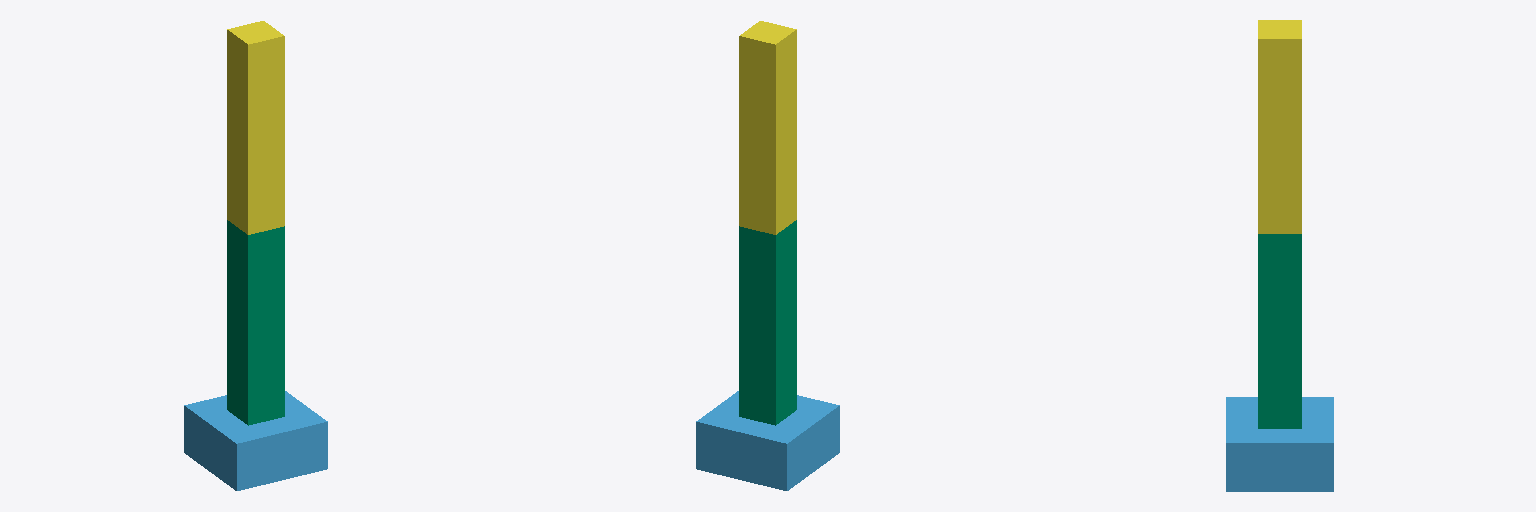
The robot description file, URDF, robot "arm_world":
<?xml version="1.0"?>
<robot name="arm_world">
  <link name="world"/>
  <joint name="world_joint" type="fixed"><parent link="world"/><child link="base_link"/><origin xyz="0 0 0"/></joint>
  <link name="base_link"><inertial><origin xyz="0 0 0"/><mass value="1.0"/><inertia ixx="0.01" ixy="0" ixz="0" iyy="0.01" iyz="0" izz="0.01"/></inertial><visual><origin xyz="0 0 0.05"/><geometry><mesh filename="../meshes/base.stl"/></geometry></visual><collision><origin xyz="0 0 0.05"/><geometry><mesh filename="../meshes/base.stl"/></geometry></collision></link>
  <link name="link1"><inertial><origin xyz="0 0 0"/><mass value="1.0"/><inertia ixx="0.01" ixy="0" ixz="0" iyy="0.01" iyz="0" izz="0.01"/></inertial><visual><origin xyz="0 0 0.2"/><geometry><mesh filename="../meshes/link.stl"/></geometry></visual><collision><origin xyz="0 0 0.2"/><geometry><mesh filename="../meshes/link.stl"/></geometry></collision></link>
  <link name="link2"><inertial><origin xyz="0 0 0"/><mass value="1.0"/><inertia ixx="0.01" ixy="0" ixz="0" iyy="0.01" iyz="0" izz="0.01"/></inertial><visual><origin xyz="0 0 0.2"/><geometry><mesh filename="../meshes/link.stl"/></geometry></visual><collision><origin xyz="0 0 0.2"/><geometry><mesh filename="../meshes/link.stl"/></geometry></collision></link>
  <link name="flange"/>
  <joint name="j1" type="revolute"><parent link="base_link"/><child link="link1"/><origin xyz="0 0 0.1"/><axis xyz="0 0 1"/><limit lower="-3.0" upper="3.0" effort="100" velocity="2"/></joint>
  <joint name="j2" type="revolute"><parent link="link1"/><child link="link2"/><origin xyz="0 0 0.4"/><axis xyz="0 1 0"/><limit lower="-3.0" upper="3.0" effort="100" velocity="2"/></joint>
  <joint name="flange_joint" type="fixed"><parent link="link2"/><child link="flange"/><origin xyz="0 0 0.4"/></joint>
</robot>

--- Facts derived from the render (not from the file) ---
Views: 3 orthographic renders of the robot side by side, from view 1: azimuth 30°, elevation 25°; view 2: azimuth 150°, elevation 25°; view 3: azimuth 270°, elevation 25°.
Robot: arm_world — 5 links, 4 joints (2 revolute, 2 fixed); root link world; default pose: every joint at zero.
Links seen in each view (by area): view 1: link2, link1, base_link; view 2: link2, link1, base_link; view 3: link2, base_link, link1.
Boxes of the visible links, bbox=[...] form: link2: bbox=[227, 21, 284, 234]; link1: bbox=[227, 220, 284, 425]; base_link: bbox=[184, 391, 327, 490]; link2: bbox=[739, 21, 796, 234]; link1: bbox=[739, 220, 796, 425]; base_link: bbox=[696, 391, 839, 490]; link2: bbox=[1258, 20, 1301, 233]; base_link: bbox=[1226, 397, 1333, 491]; link1: bbox=[1258, 234, 1301, 428].
Size in the robot's own frame: 0.2 by 0.2 by 0.9 metres.
3 mesh visuals loaded from 2 distinct referenced files (2 binary STL).
